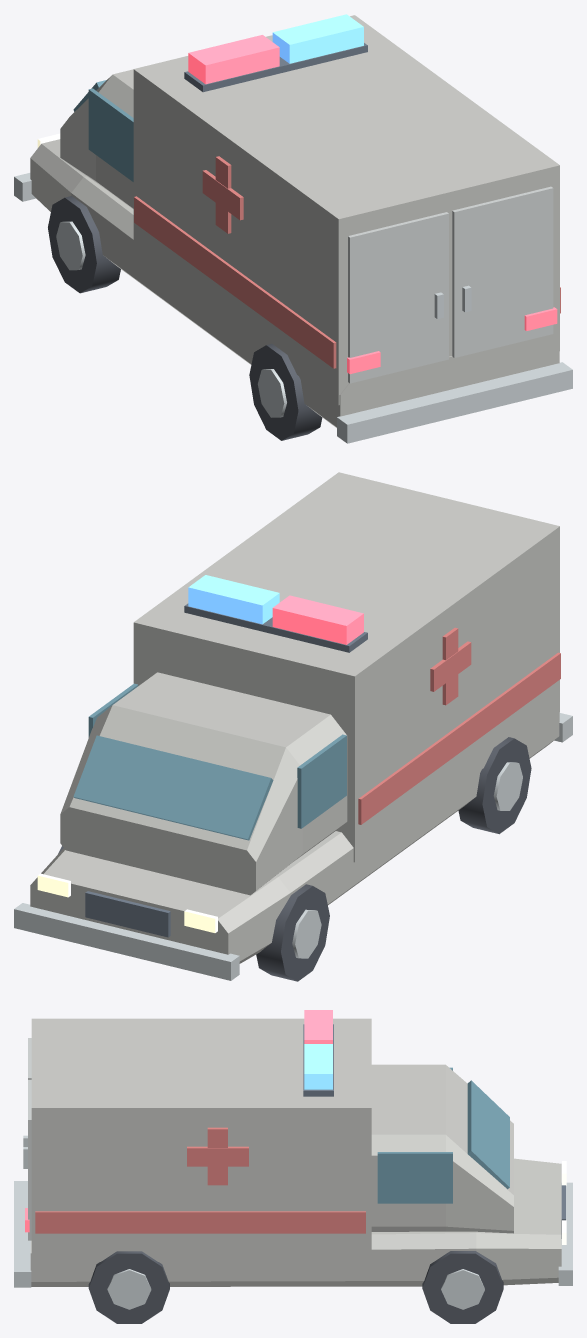
Rendered from ambulance.glb.
3 views of the same model, one above another, from view 1: azimuth 30°, elevation 25°; view 2: azimuth 150°, elevation 25°; view 3: azimuth 270°, elevation 25° (orthographic). The views are drawn at different scales.
Visible parts, largest first — view 1: Medical_Box, Rear_Door (×2), Chassis, Rear_Bumper, Tire (×2), Emergency_Stripe, Driver_Cab, Emergency_Red_Box, Emergency_Blue_Box, Cab_Side_Window, Hub (×2), Lightbar_Mount (+4 smaller); view 2: Medical_Box, Driver_Cab, Chassis, Windshield, Tire (×2), Front_Bumper, Emergency_Stripe, Cab_Side_Window, Emergency_Red_Box, Emergency_Blue_Box, Grille, Hub (×2) (+3 smaller); view 3: Medical_Box, Chassis, Driver_Cab, Emergency_Stripe, Tire (×2), Cab_Side_Window, Windshield, Hub (×2), Rear_Bumper, Emergency_Blue_Box, Medical_Cross_H, Front_Bumper (+4 smaller).
Boxes of the visible parts, <box> form: Medical_Box: <box>133,15,559,404</box>; Rear_Door (×2): <box>348,186,553,383</box>; Chassis: <box>30,139,559,427</box>; Rear_Bumper: <box>337,362,572,443</box>; Tire (×2): <box>48,196,322,440</box>; Emergency_Stripe: <box>134,196,336,368</box>; Driver_Cab: <box>60,69,133,209</box>; Emergency_Red_Box: <box>188,35,279,84</box>; Emergency_Blue_Box: <box>272,14,363,63</box>; Cab_Side_Window: <box>88,88,133,181</box>; Hub (×2): <box>56,221,286,417</box>; Lightbar_Mount: <box>184,43,367,92</box>; Medical_Box: <box>133,472,559,862</box>; Driver_Cab: <box>60,672,347,895</box>; Chassis: <box>30,713,559,963</box>; Windshield: <box>73,735,273,840</box>; Tire (×2): <box>256,737,531,981</box>; Front_Bumper: <box>14,903,239,980</box>; Emergency_Stripe: <box>358,652,560,824</box>; Cab_Side_Window: <box>297,734,346,828</box>; Emergency_Red_Box: <box>272,595,363,644</box>; Emergency_Blue_Box: <box>188,575,279,624</box>; Grille: <box>85,891,170,937</box>; Hub (×2): <box>292,762,522,958</box>; Medical_Box: <box>31,1018,371,1261</box>; Chassis: <box>30,1158,561,1286</box>; Driver_Cab: <box>371,1064,513,1233</box>; Emergency_Stripe: <box>35,1211,365,1233</box>; Tire (×2): <box>88,1251,503,1323</box>; Cab_Side_Window: <box>377,1152,452,1203</box>; Windshield: <box>467,1080,509,1189</box>; Hub (×2): <box>107,1269,484,1309</box>; Rear_Bumper: <box>14,1181,31,1287</box>; Emergency_Blue_Box: <box>304,1044,332,1089</box>; Medical_Cross_H: <box>187,1146,248,1166</box>; Front_Bumper: <box>558,1182,572,1285</box>.
Bounding box in the file's own units: 2.25 × 2.55 × 5.5.
